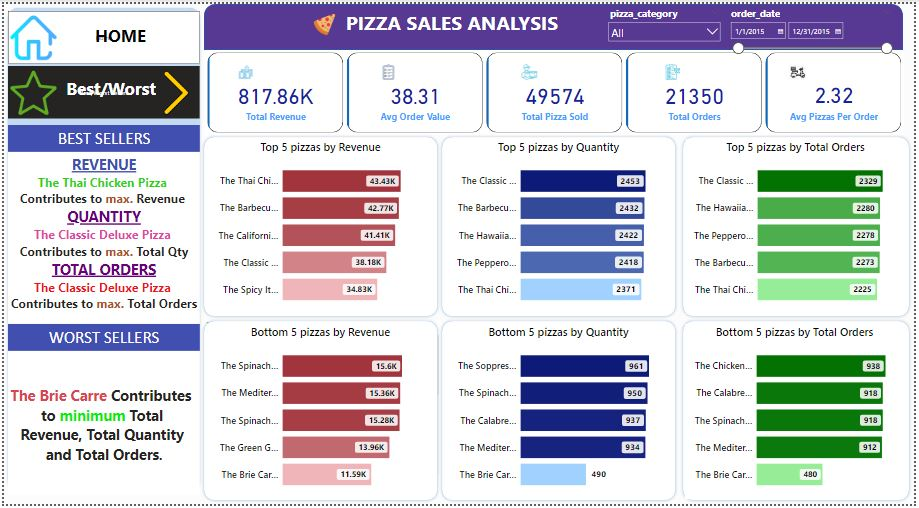

The page's visual inventory and layout, read from the dashboard file:
{"tool":"powerbi","page":{"name":"Best/Worst Sellers","canvas":[2000,1100],"ordinal":1},"visuals":[{"type":"shape","box":[0,0,440,1080.2],"z":0},{"type":"cardVisual","fields":{"Data":["pizza_sales.Total Revenue","pizza_sales.Avg Order Value","pizza_sales.Total Pizza Sold","pizza_sales.Total Orders","pizza_sales.Avg Pizzas Per Order"]},"box":[442.2,101.2,1537.8,187],"z":1000},{"type":"shape","box":[440,0,1537.8,101.2],"z":2000},{"type":"textbox","box":[563.2,6.6,844.8,77],"z":3000},{"type":"image","box":[664.4,15.4,81.4,59.4],"z":4000},{"type":"textbox","box":[8.8,266.2,422.4,59.4],"z":5000},{"type":"textbox","box":[8.8,325.6,422.4,378.4],"z":6000},{"type":"textbox","box":[8.8,704,422.4,59.4],"z":7000},{"type":"shape","box":[431.2,283.8,530.7,411.8],"z":8000,"group":"g1"},{"type":"shape","box":[954.8,283.8,530.7,411.8],"z":8000,"group":"g3"},{"type":"shape","box":[1485,283.8,515.3,411.8],"z":8000,"group":"g4"},{"type":"shape","box":[431.2,688.6,530.7,411.8],"z":8000,"group":"g2"},{"type":"shape","box":[954.8,688.6,530.7,411.8],"z":8000,"group":"g5"},{"type":"shape","box":[1485,688.6,515.3,411.8],"z":8000,"group":"g6"},{"type":"textbox","box":[8.8,763.4,422.4,316.8],"z":8000},{"type":"slicer","fields":{"Values":["pizza_sales.pizza_category"]},"box":[1320,0,266.2,101.2],"z":9000},{"type":"slicer","fields":{"Values":["pizza_sales.order_date"]},"box":[1586.2,0,376.2,167.2],"z":10000},{"type":"group","id":"g1","title":"Group 4","box":[431.2,283.8,530.8,796.2],"z":11000},{"type":"group","id":"g2","title":"Group 4","box":[431.2,688.6,530.7,411.8],"z":12000},{"type":"barChart","fields":{"Category":["pizza_sales.pizza_name"],"Y":["pizza_sales.Total Revenue"]},"box":[440,696,522,384],"z":12006,"group":"g1"},{"type":"group","id":"g3","title":"Group 4","box":[954.8,283.8,530.7,411.8],"z":13000},{"type":"group","id":"g4","title":"Group 4","box":[1485,283.8,515.3,411.8],"z":14000},{"type":"group","id":"g5","title":"Group 4","box":[954.8,688.6,530.7,411.8],"z":15000},{"type":"group","id":"g6","title":"Group 4","box":[1485,688.6,515.3,411.8],"z":16000},{"type":"barChart","title":"Top 5 pizzas by Revenue","fields":{"Category":["pizza_sales.pizza_name"],"Y":["pizza_sales.Total Revenue"]},"box":[455.4,297,481.8,385],"z":17000},{"type":"barChart","title":"Top 5 pizzas by Quantity","fields":{"Category":["pizza_sales.pizza_name"],"Y":["pizza_sales.Total Pizza Sold"]},"box":[979,297,481.8,385],"z":18000},{"type":"barChart","title":"Bottom 5 pizzas by Quantity","fields":{"Category":["pizza_sales.pizza_name"],"Y":["pizza_sales.Total Pizza Sold"]},"box":[979,704,481.8,385],"z":19000},{"type":"barChart","title":"Bottom 5 pizzas by Revenue","fields":{"Category":["pizza_sales.pizza_name"],"Y":["pizza_sales.Total Revenue"]},"box":[455.4,704,481.8,385],"z":20000},{"type":"barChart","title":"Top 5 pizzas by Total Orders","fields":{"Category":["pizza_sales.pizza_name"],"Y":["pizza_sales.Total Orders"]},"box":[1500.4,297,481.8,385],"z":21000},{"type":"barChart","title":"Bottom 5 pizzas by Total Orders","fields":{"Category":["pizza_sales.pizza_name"],"Y":["pizza_sales.Total Orders"]},"box":[1498.2,704,481.8,385],"z":22000},{"type":"pageNavigator","box":[8.8,136.4,422.4,116.6],"z":23000},{"type":"pageNavigator","box":[8.8,15.4,422.4,116.6],"z":24000},{"type":"image","box":[8.8,15.4,112.2,116.6],"z":25000},{"type":"image","box":[325.6,136.4,105.6,116.6],"z":26000},{"type":"image","box":[8.8,136.4,112.2,116.6],"z":27000},{"type":"textbox","box":[162.8,39.6,187,70.4],"z":27001},{"type":"textbox","box":[121,156.2,228.8,77],"z":27002}]}

Visuals, with their boxes in screenshot pixels (x1, y1, x2, y2), scaled from the page's 2000x1100 canvas onto the 919x508 screenshot:
shape: {"x1": 0, "y1": 0, "x2": 202, "y2": 499}
cardVisual - pizza_sales.Total Revenue x pizza_sales.Avg Order Value: {"x1": 203, "y1": 47, "x2": 910, "y2": 133}
shape: {"x1": 202, "y1": 0, "x2": 909, "y2": 47}
textbox: {"x1": 259, "y1": 3, "x2": 647, "y2": 39}
image: {"x1": 305, "y1": 7, "x2": 343, "y2": 35}
textbox: {"x1": 4, "y1": 123, "x2": 198, "y2": 150}
textbox: {"x1": 4, "y1": 150, "x2": 198, "y2": 325}
textbox: {"x1": 4, "y1": 325, "x2": 198, "y2": 353}
shape: {"x1": 198, "y1": 131, "x2": 442, "y2": 321}
shape: {"x1": 439, "y1": 131, "x2": 683, "y2": 321}
shape: {"x1": 682, "y1": 131, "x2": 918, "y2": 321}
shape: {"x1": 198, "y1": 318, "x2": 442, "y2": 507}
shape: {"x1": 439, "y1": 318, "x2": 683, "y2": 507}
shape: {"x1": 682, "y1": 318, "x2": 918, "y2": 507}
textbox: {"x1": 4, "y1": 353, "x2": 198, "y2": 499}
slicer - pizza_sales.pizza_category: {"x1": 607, "y1": 0, "x2": 729, "y2": 47}
slicer - pizza_sales.order_date: {"x1": 729, "y1": 0, "x2": 902, "y2": 77}
"Group 4" group: {"x1": 198, "y1": 131, "x2": 442, "y2": 499}
"Group 4" group: {"x1": 198, "y1": 318, "x2": 442, "y2": 507}
barChart - pizza_sales.pizza_name x pizza_sales.Total Revenue: {"x1": 202, "y1": 321, "x2": 442, "y2": 499}
"Group 4" group: {"x1": 439, "y1": 131, "x2": 683, "y2": 321}
"Group 4" group: {"x1": 682, "y1": 131, "x2": 918, "y2": 321}
"Group 4" group: {"x1": 439, "y1": 318, "x2": 683, "y2": 507}
"Group 4" group: {"x1": 682, "y1": 318, "x2": 918, "y2": 507}
"Top 5 pizzas by Revenue" barChart: {"x1": 209, "y1": 137, "x2": 431, "y2": 315}
"Top 5 pizzas by Quantity" barChart: {"x1": 450, "y1": 137, "x2": 671, "y2": 315}
"Bottom 5 pizzas by Quantity" barChart: {"x1": 450, "y1": 325, "x2": 671, "y2": 503}
"Bottom 5 pizzas by Revenue" barChart: {"x1": 209, "y1": 325, "x2": 431, "y2": 503}
"Top 5 pizzas by Total Orders" barChart: {"x1": 689, "y1": 137, "x2": 911, "y2": 315}
"Bottom 5 pizzas by Total Orders" barChart: {"x1": 688, "y1": 325, "x2": 910, "y2": 503}
pageNavigator: {"x1": 4, "y1": 63, "x2": 198, "y2": 117}
pageNavigator: {"x1": 4, "y1": 7, "x2": 198, "y2": 61}
image: {"x1": 4, "y1": 7, "x2": 56, "y2": 61}
image: {"x1": 150, "y1": 63, "x2": 198, "y2": 117}
image: {"x1": 4, "y1": 63, "x2": 56, "y2": 117}
textbox: {"x1": 75, "y1": 18, "x2": 161, "y2": 51}
textbox: {"x1": 56, "y1": 72, "x2": 161, "y2": 108}
